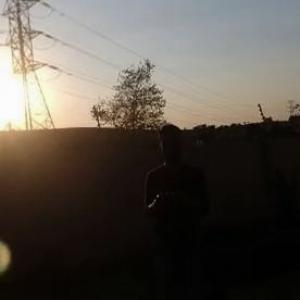follow: (139, 118, 216, 299)
